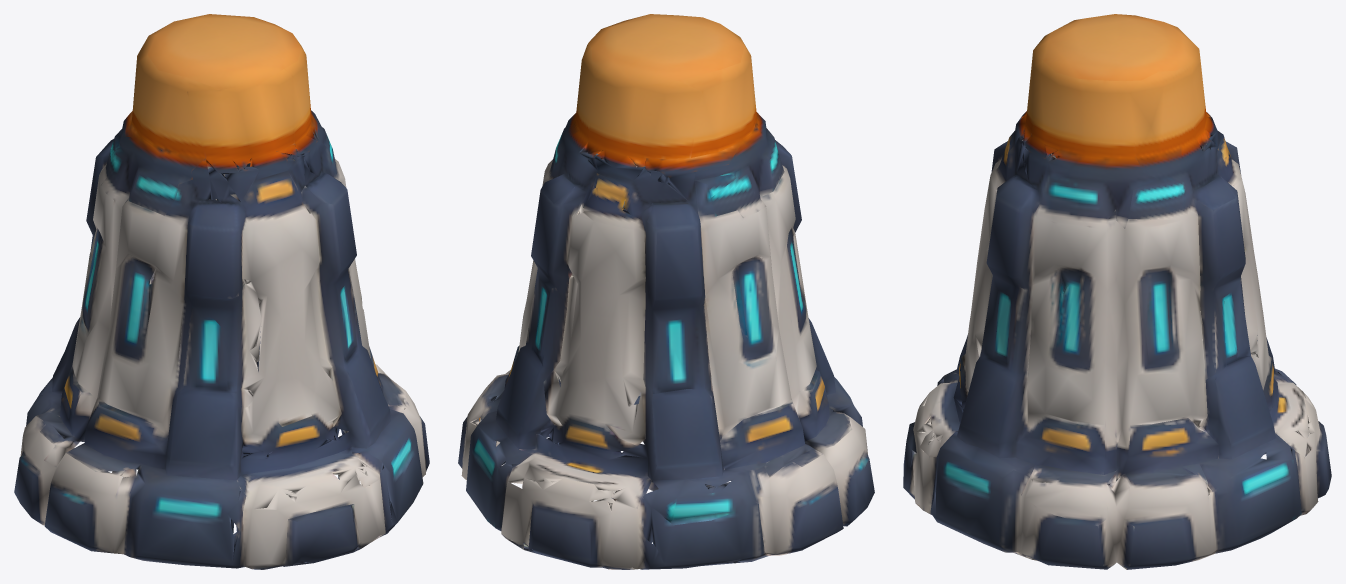
The model's file is cryo-warning-bollard_LOD0.glb.
3 renders of one model, left to right at view 1: azimuth 30°, elevation 25°; view 2: azimuth 150°, elevation 25°; view 3: azimuth 270°, elevation 25°, orthographic.
Visible parts, largest first — view 1: cryo-warning-bollard_LOD0; view 2: cryo-warning-bollard_LOD0; view 3: cryo-warning-bollard_LOD0.
Boxes of the visible parts, <box> form: cryo-warning-bollard_LOD0: <box>14,14,429,569</box>; cryo-warning-bollard_LOD0: <box>458,14,874,569</box>; cryo-warning-bollard_LOD0: <box>903,14,1331,569</box>.
Size of the model in its own units: 0.8528 by 1 by 0.8652.
1 material, 1 textured.
